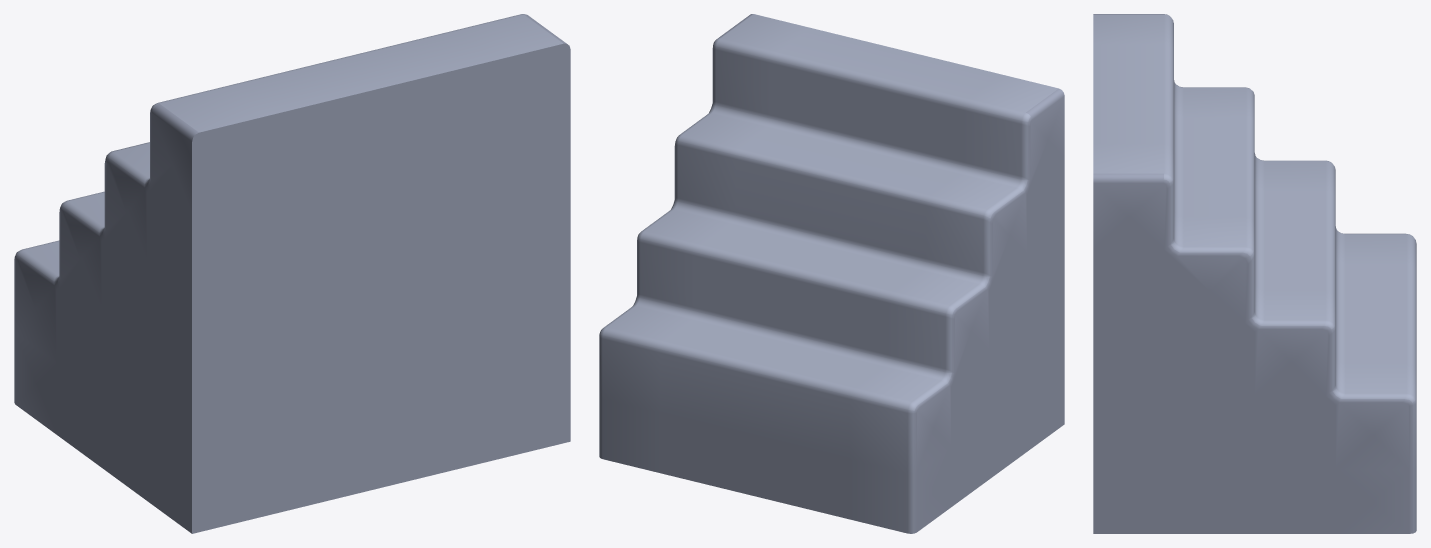
The model's file is Stairs.fbx.
The picture shows the model from 3 angles, left to right: view 1: azimuth 30°, elevation 25°; view 2: azimuth 150°, elevation 25°; view 3: azimuth 270°, elevation 25°; orthographic projection. The views are drawn at different scales.
Visible parts, largest first — view 1: Stairs; view 2: Stairs; view 3: Stairs.
Part boxes in pixels (bbox=[...]): Stairs: bbox=[14, 14, 570, 533]; Stairs: bbox=[599, 14, 1064, 533]; Stairs: bbox=[1093, 14, 1416, 533].
Bounding box in the file's own units: 10.54 × 10.63 × 8.72.
